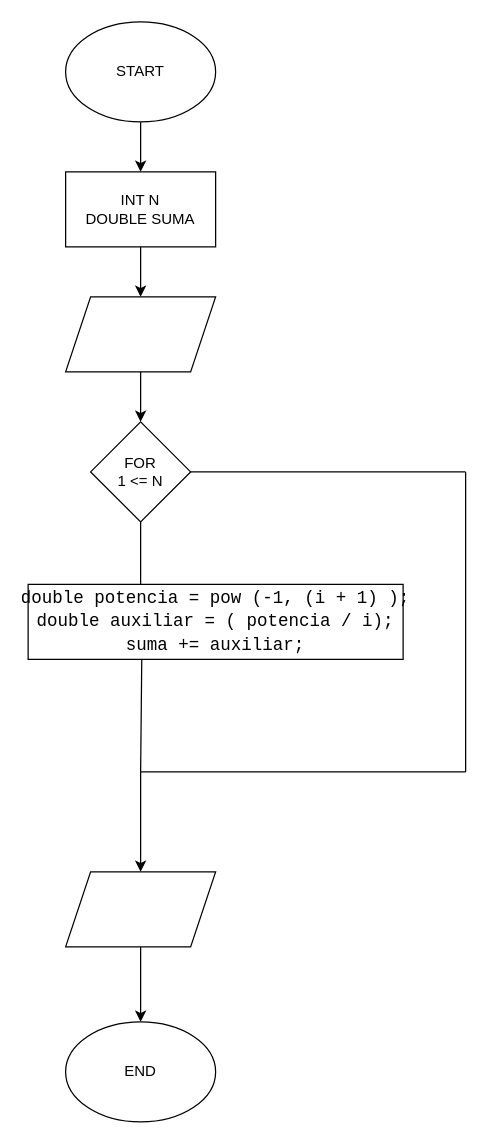
The diagram is 489 pixels wide and 1144 high, and some of its shapes have lost their labels. The centre of each missing label's shape, as x and y in pixels:
"CIN N" belongs at (140,334).
"COUT SUMA" belongs at (140,909).
